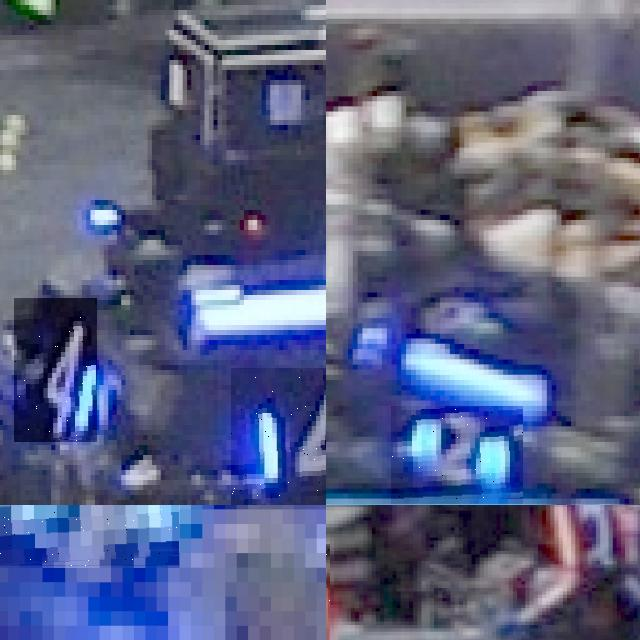B2: (391, 406, 523, 504)
B3: (0, 505, 179, 567)
B4: (230, 367, 326, 505), (14, 298, 97, 442)
